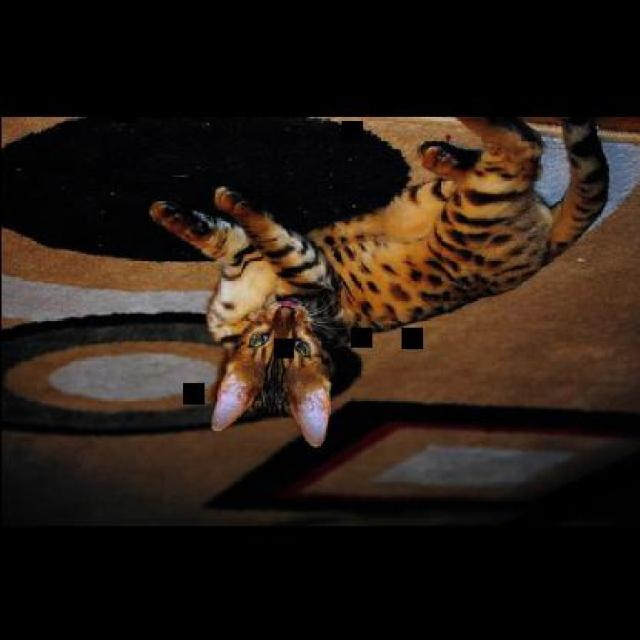unauthorized: (146, 112, 609, 448)
